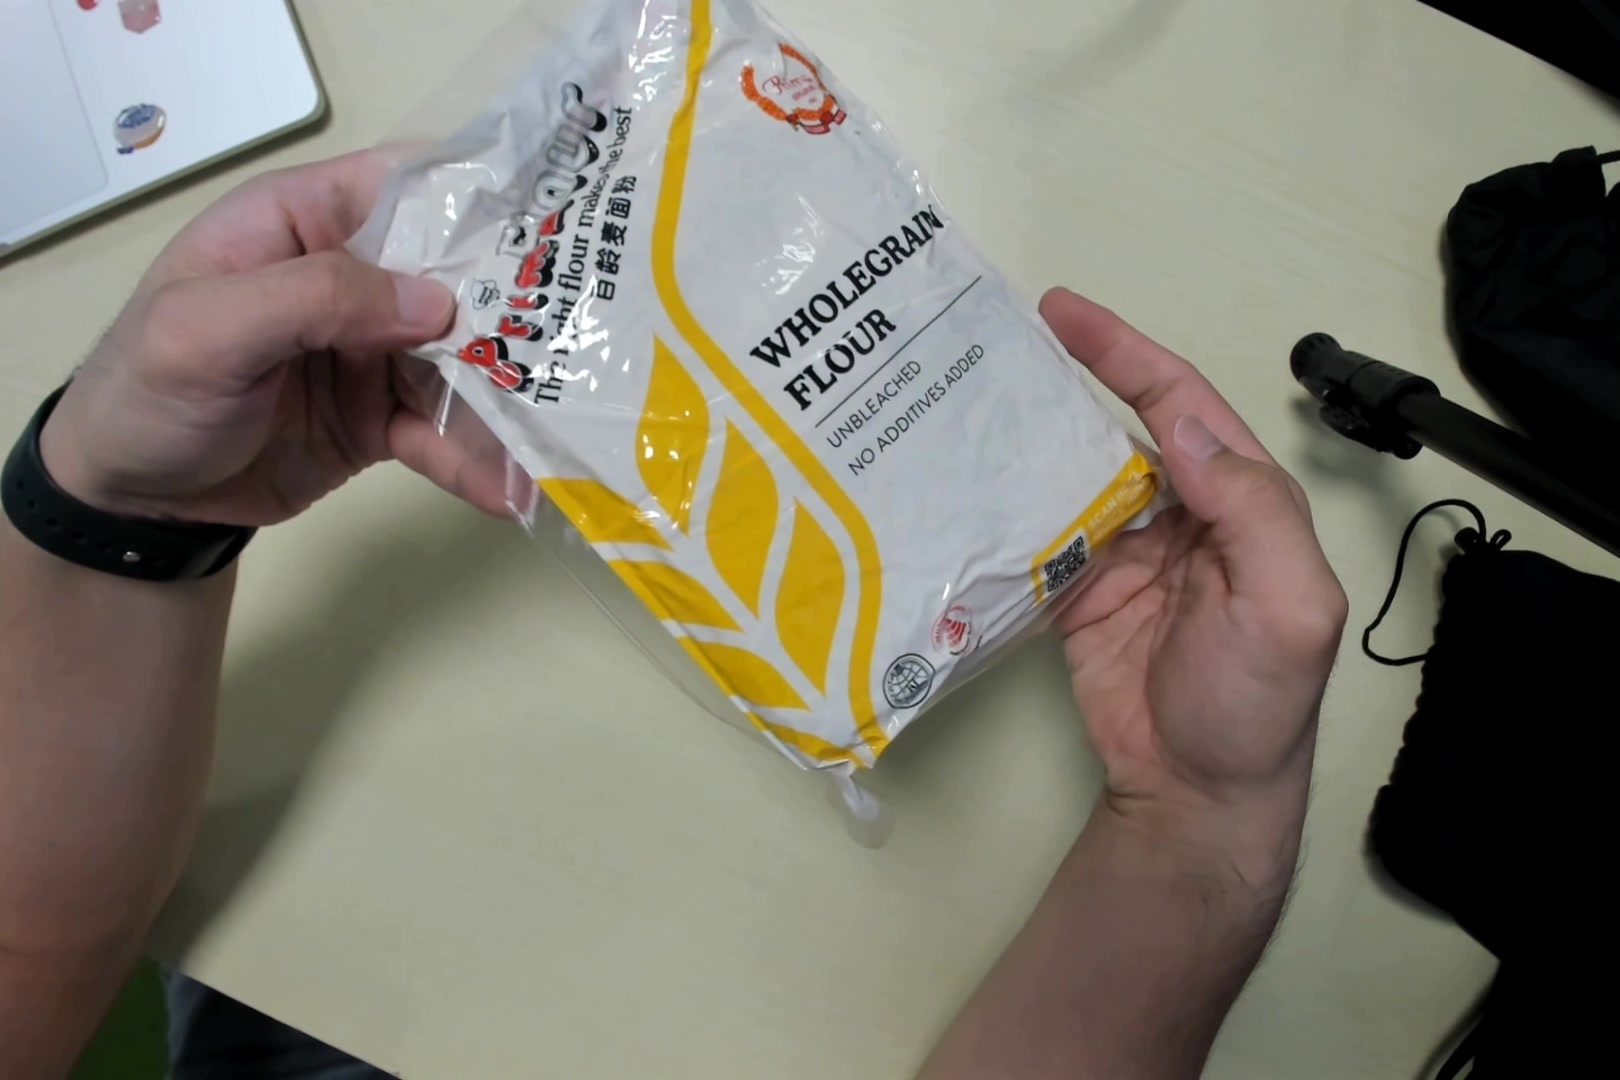OtherBakingNeeds_400-499g_Halal_NonHealthy: (354, 1, 1172, 790)
